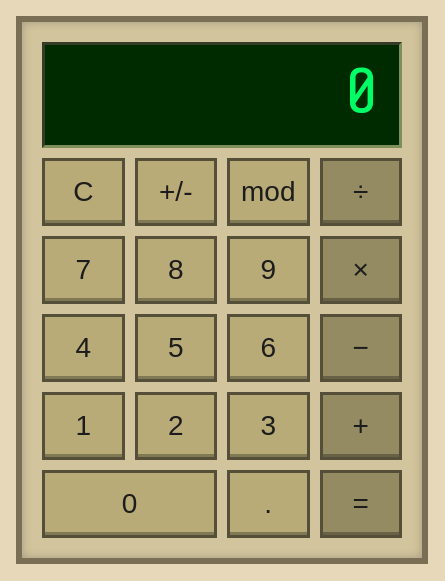
it: Calculator Functional Tests › should clear display when C is pressed
This screenshot has width=445, height=581.
Click the button "9".
click(268, 270)  # box [227,236,310,304]
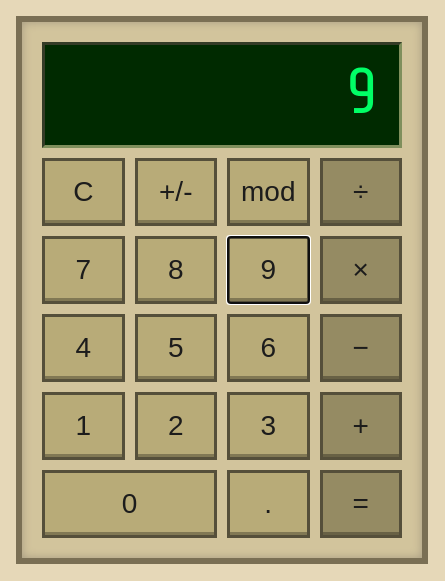
Click the button "C".
click(83, 192)  # box [42,158,124,226]
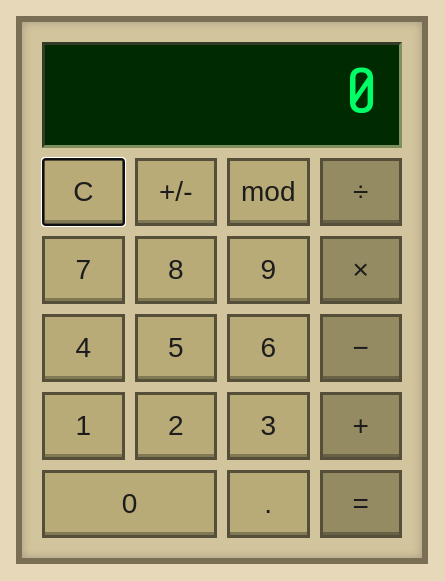
Result: the text with test id "display" reads "0" at [344,55,379,129]
